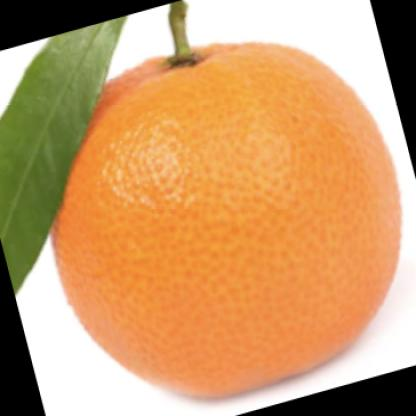fresh: (50, 42, 402, 398)
